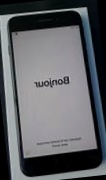iphone: (11, 13, 94, 174)
